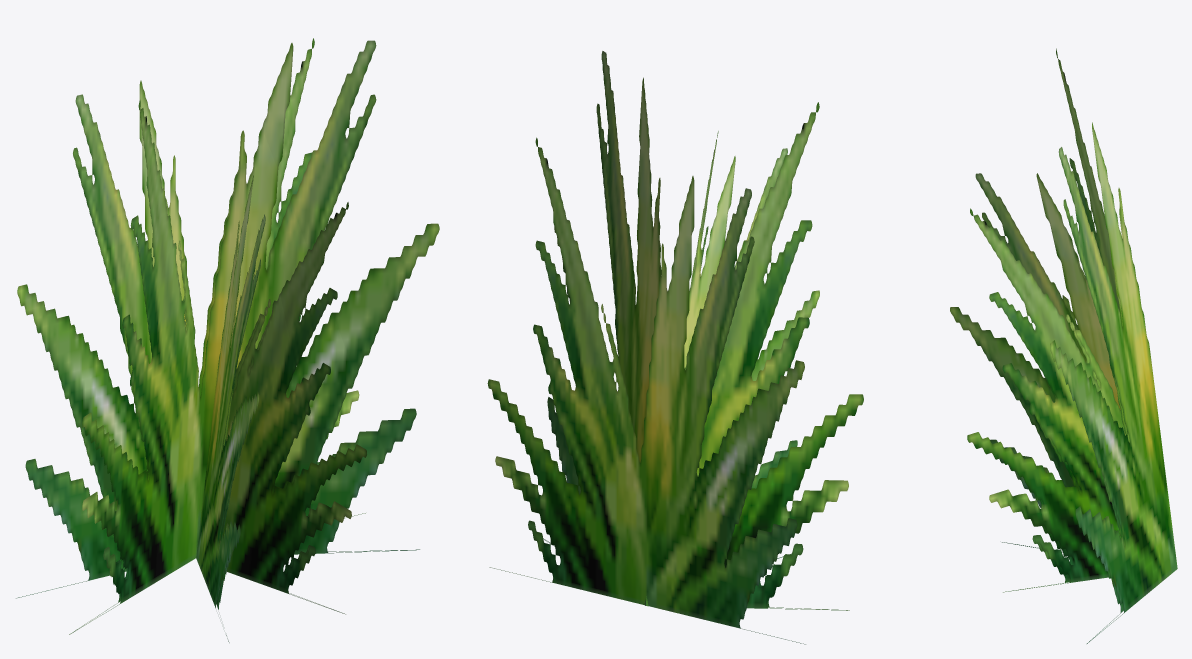
The model's file is plants2.obj.
3 views of the same model, side by side, from view 1: azimuth 30°, elevation 25°; view 2: azimuth 150°, elevation 25°; view 3: azimuth 270°, elevation 25° (orthographic). The views are drawn at different scales.
Visible parts, largest first — view 1: obj5; view 2: obj5; view 3: obj5.
Part boxes in pixels (x1,y1,x2,y2): obj5: (16, 38, 439, 642); obj5: (487, 51, 863, 644); obj5: (950, 48, 1177, 643).
Bounding box in the file's own units: 5.24 × 7.69 × 3.83.
1 material, 1 textured.
